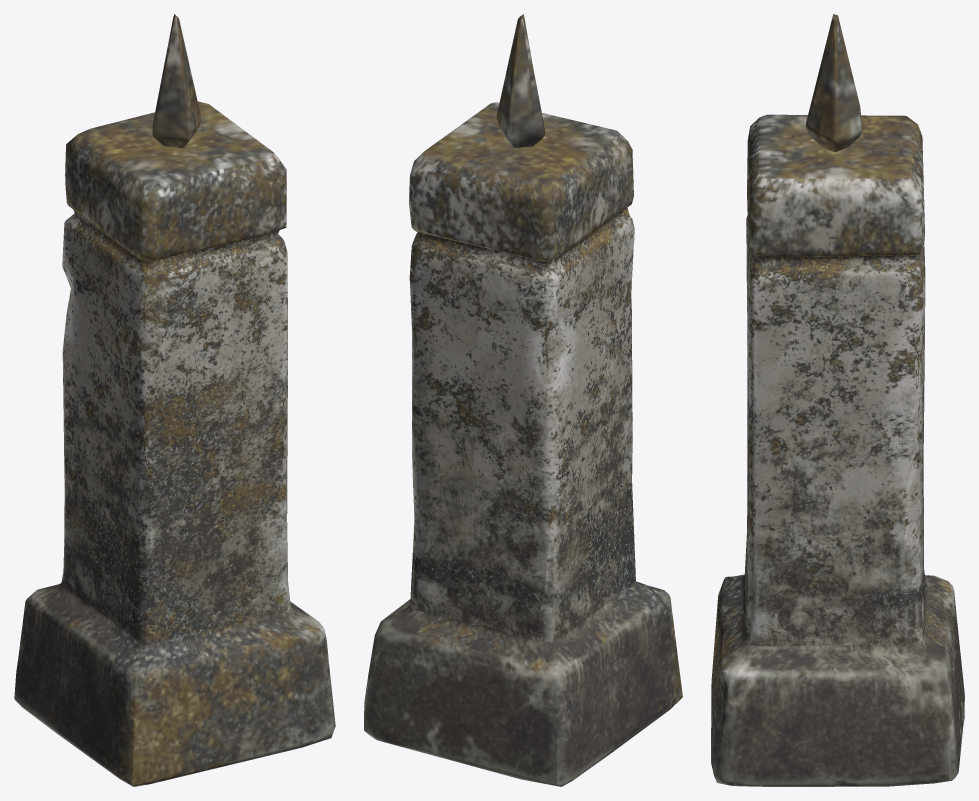
Rendered from SM_Cemetery02.fbx.
3 renders of one model, left to right at view 1: azimuth 30°, elevation 25°; view 2: azimuth 150°, elevation 25°; view 3: azimuth 270°, elevation 25°, orthographic. The views are drawn at different scales.
Parts seen in each view (by area): view 1: SM_Cemetery02_LOD0; view 2: SM_Cemetery02_LOD0; view 3: SM_Cemetery02_LOD0.
Part boxes in pixels (x1=…): SM_Cemetery02_LOD0: x1=14, y1=14, x2=335, y2=786; SM_Cemetery02_LOD0: x1=364, y1=14, x2=682, y2=786; SM_Cemetery02_LOD0: x1=711, y1=14, x2=964, y2=786.
Size of the model in its own units: 68.17 by 68.95 by 216.
